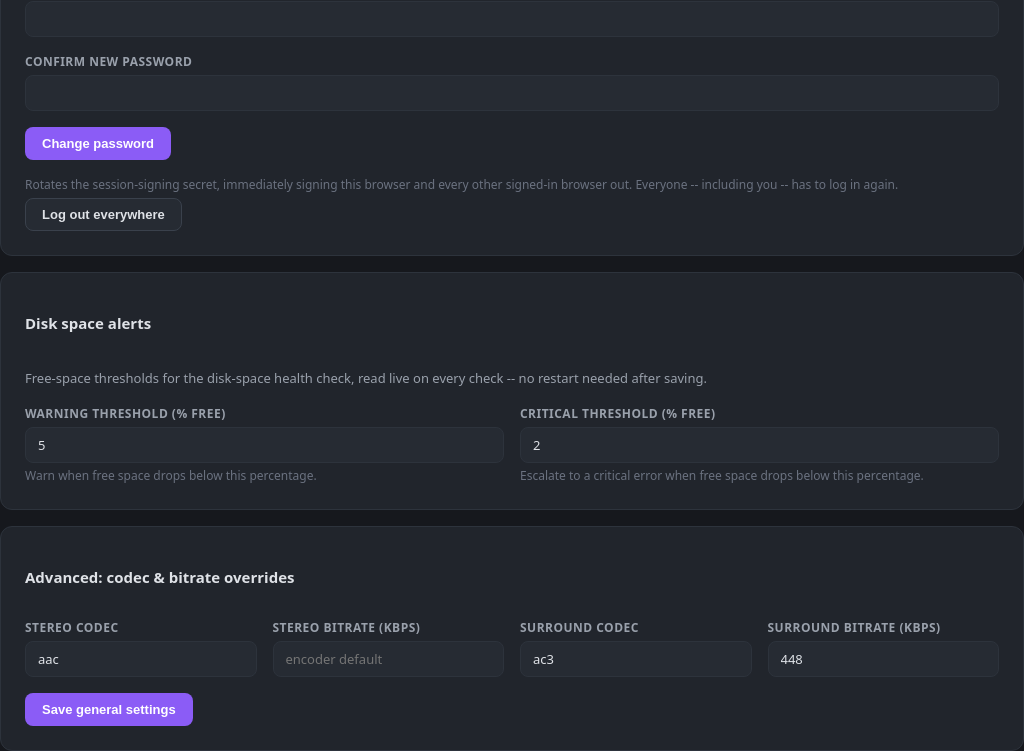
GeneralSection › validates the disk-space warning threshold before saving
The image size is (1024, 751).
(page scrolled)
Replace the text in the number field labelled "Warning threshold (% free)" with "0" at point(264, 445), box [25,427,504,463]
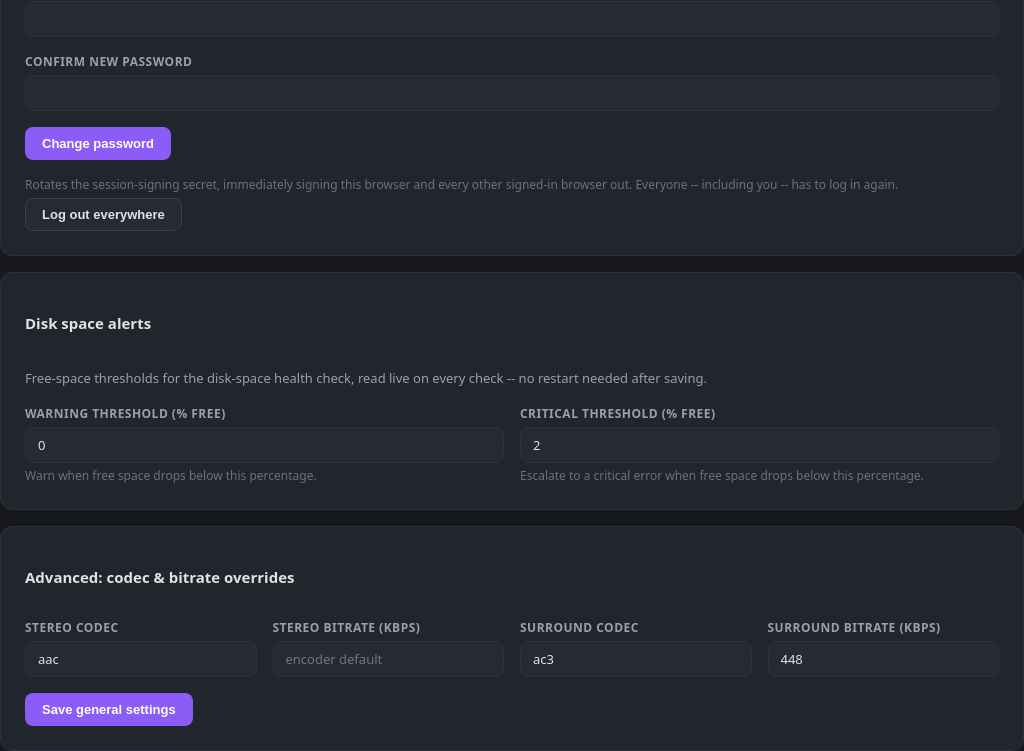
Click the button "Save general settings" at point(109, 710), box [25,693,193,726]
(page scrolled)
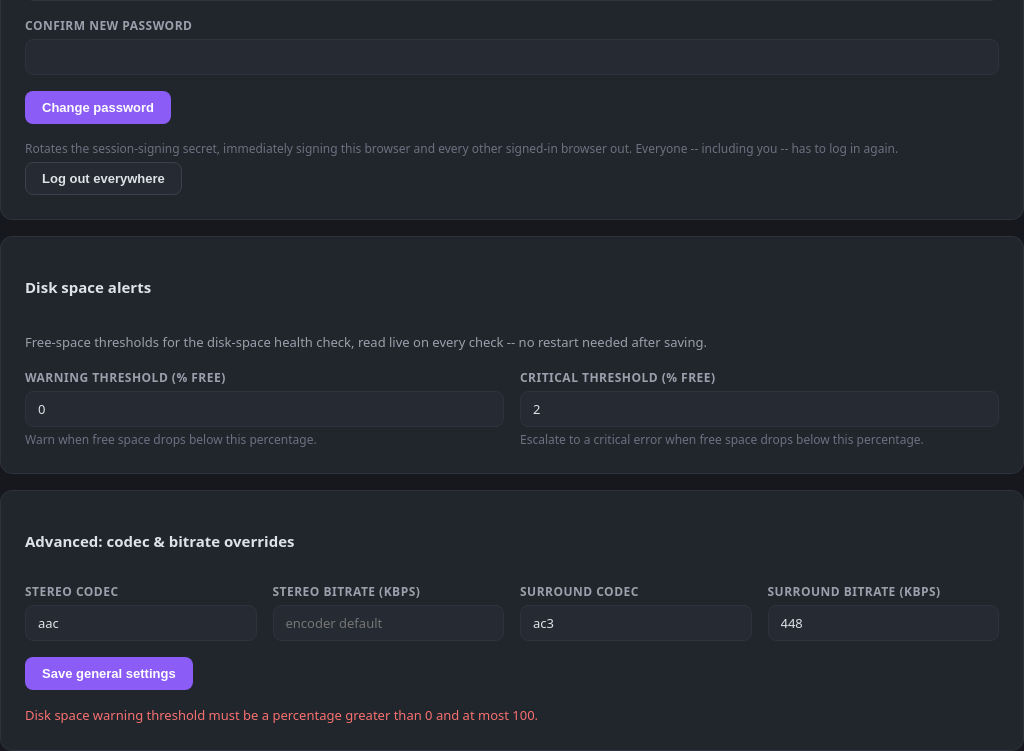
Expected: the text "Disk space warning threshold must be a percentage greater than 0" is shown, [25,706,538,724]
